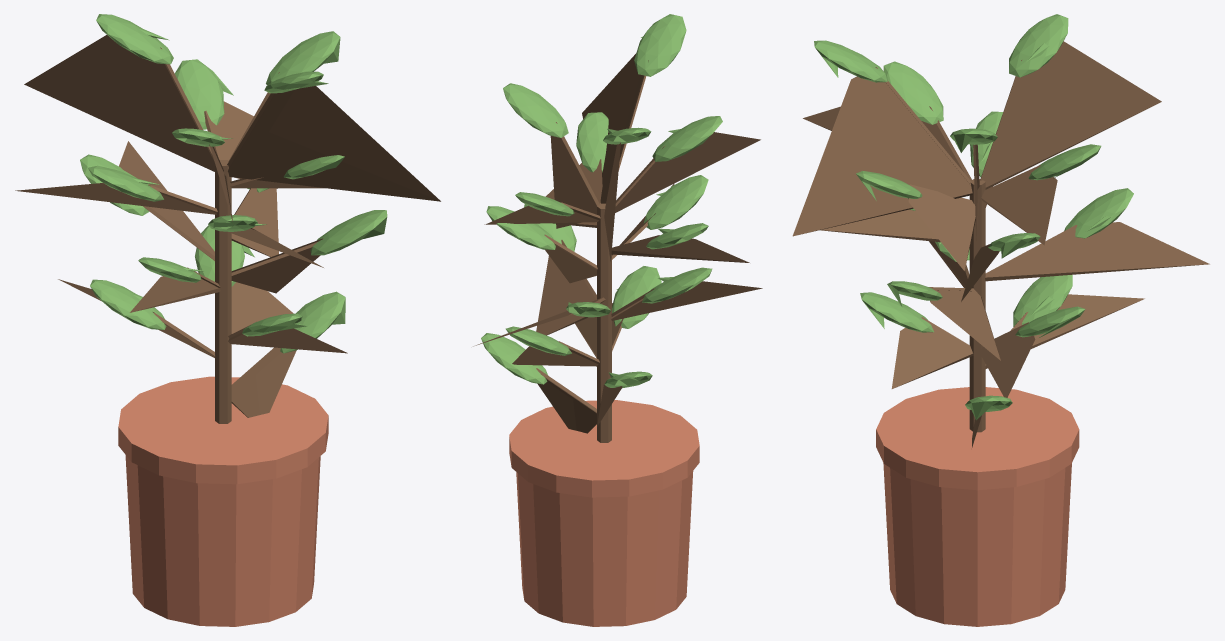
File: plant.glb
3 renders of one model, left to right at view 1: azimuth 30°, elevation 25°; view 2: azimuth 150°, elevation 25°; view 3: azimuth 270°, elevation 25°, orthographic. The views are drawn at different scales.
Parts seen in each view (by area): view 1: plant; view 2: plant; view 3: plant.
Part boxes in pixels (x1=…): plant: x1=15, y1=14, x2=440, y2=626; plant: x1=473, y1=14, x2=762, y2=626; plant: x1=792, y1=14, x2=1209, y2=626.
Bounding box in the file's own units: 0.8645 × 1.52 × 1.05.
